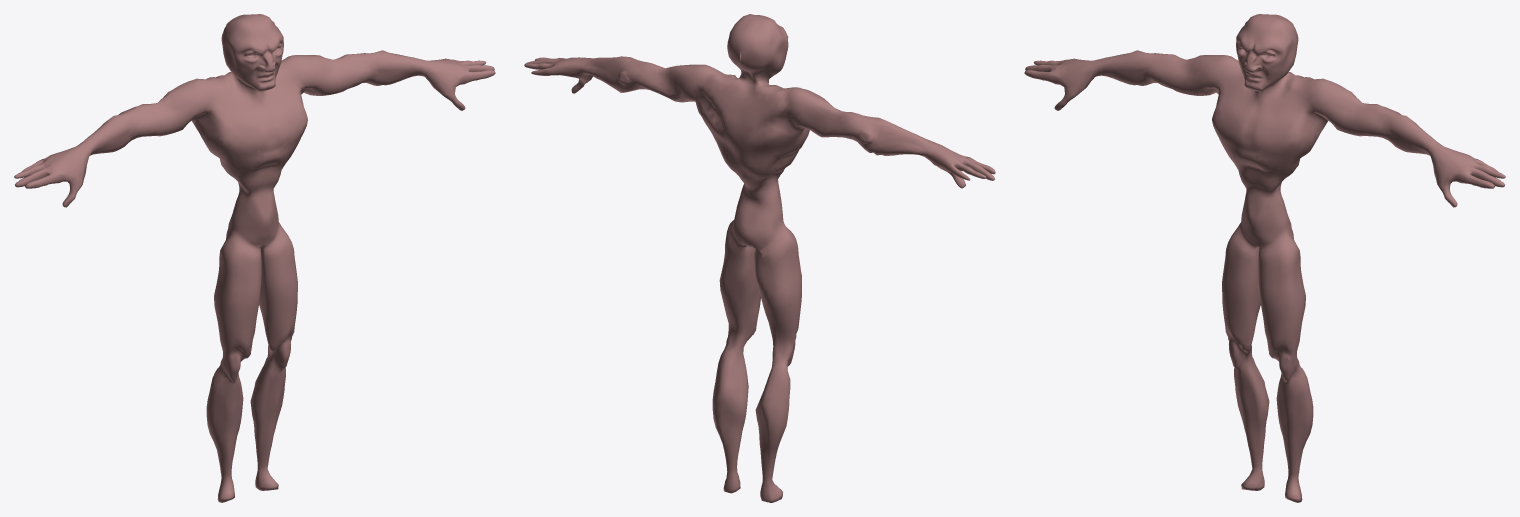
File: enemy_retop_06.fbx
3 views of the same model, side by side, from view 1: azimuth 30°, elevation 25°; view 2: azimuth 150°, elevation 25°; view 3: azimuth 330°, elevation 25° (orthographic). The views are drawn at different scales.
Visible parts, largest first — view 1: retop_enemy_0:polySurface1; view 2: retop_enemy_0:polySurface1; view 3: retop_enemy_0:polySurface1.
Part boxes in pixels (left/top/right/bottom): retop_enemy_0:polySurface1: left=14, top=14, right=495, bottom=502; retop_enemy_0:polySurface1: left=524, top=14, right=995, bottom=502; retop_enemy_0:polySurface1: left=1024, top=14, right=1505, bottom=502.
Bounding box in the file's own units: 381 × 367 × 54.79.
